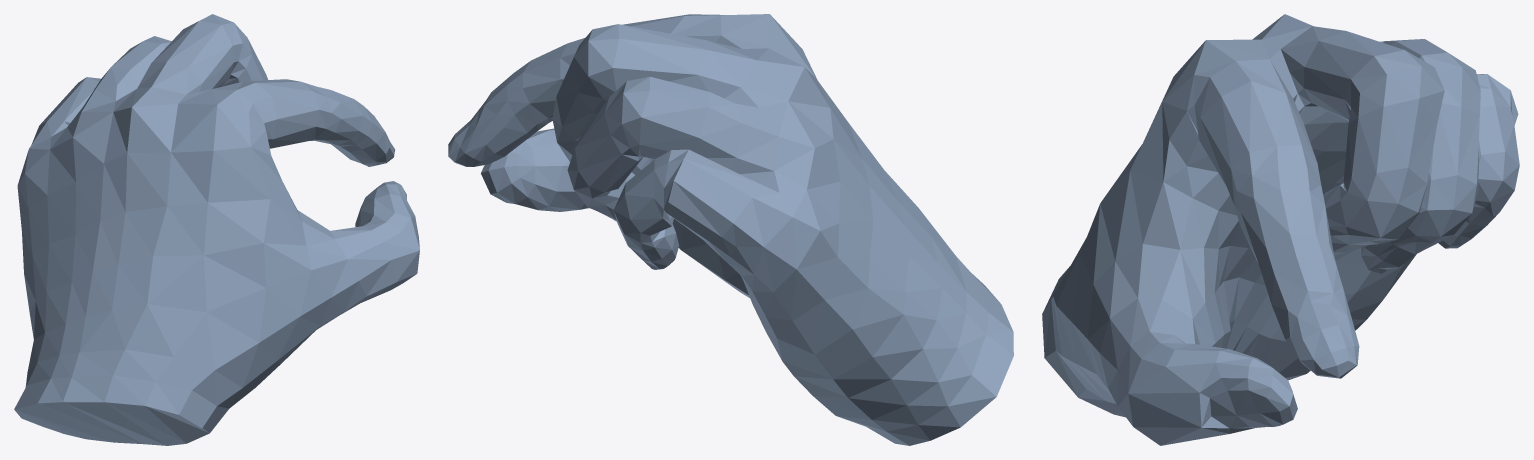
3 renders of one model, left to right at view 1: azimuth 30°, elevation 25°; view 2: azimuth 150°, elevation 25°; view 3: azimuth 270°, elevation 25°, orthographic. The views are drawn at different scales.
Bounding box in the file's own units: 0.1468 × 0.1139 × 0.1049.
